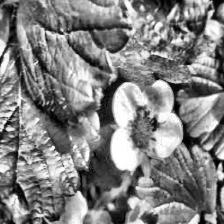Blossom Blight: (125, 105, 160, 156)
